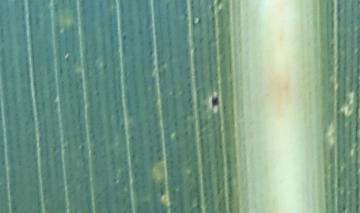tarspot: (211, 94, 220, 109)
